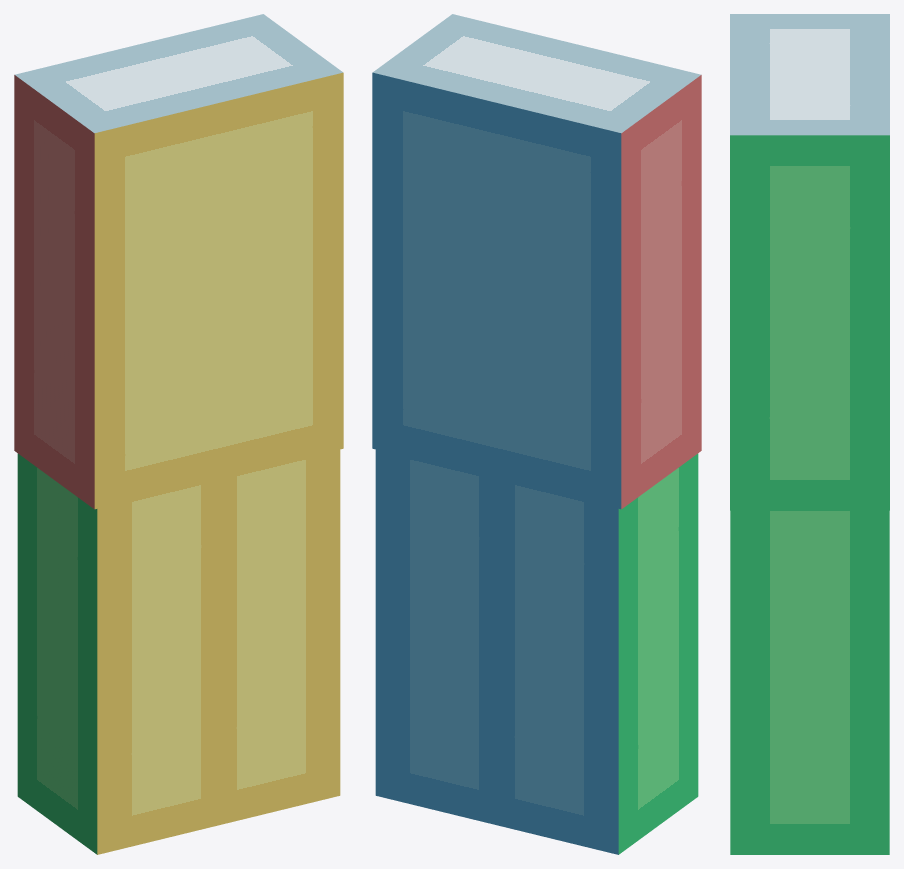
File: leggings.glb
3 views of the same model, side by side, from view 1: azimuth 30°, elevation 25°; view 2: azimuth 150°, elevation 25°; view 3: azimuth 270°, elevation 25° (orthographic).
Visible parts, largest first — view 1: Belt, Left Leg Armor, Right Leg Armor; view 2: Belt, Left Leg Armor, Right Leg Armor; view 3: Belt, Right Leg Armor.
Boxes of the visible parts, left/top/right/bottom form: Belt: left=14, top=14, right=343, bottom=509; Left Leg Armor: left=17, top=453, right=235, bottom=854; Right Leg Armor: left=202, top=449, right=340, bottom=823; Belt: left=372, top=14, right=701, bottom=509; Left Leg Armor: left=480, top=453, right=698, bottom=854; Right Leg Armor: left=375, top=449, right=513, bottom=823; Belt: left=730, top=14, right=889, bottom=510; Right Leg Armor: left=730, top=510, right=889, bottom=854.
Size of the model in its own units: 0.5638 by 1.56 by 0.3137.
1 material, 1 textured.
